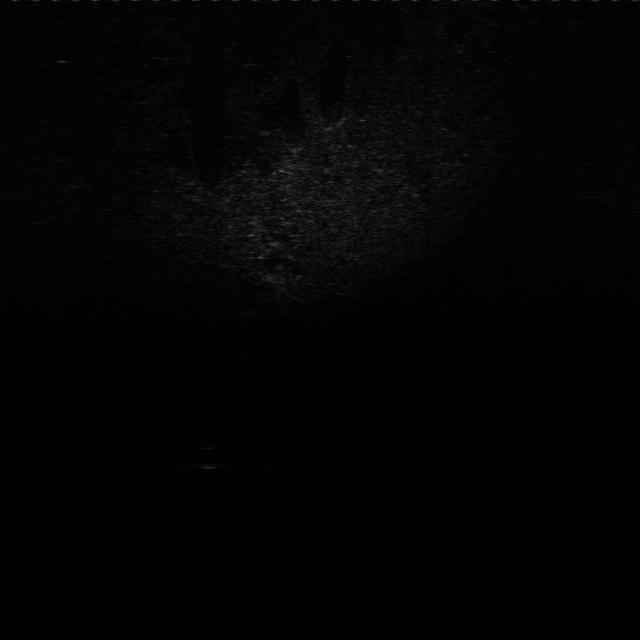ball: (187, 442, 228, 473)
